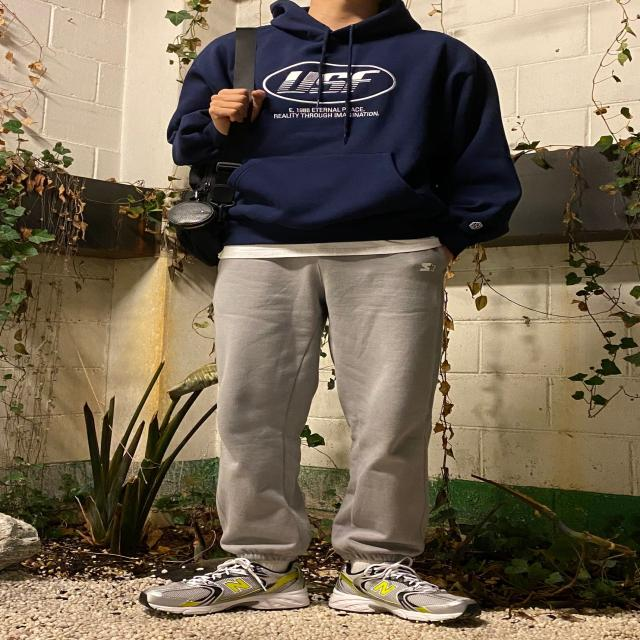hoodies: (166, 2, 524, 256)
trainingpants: (211, 244, 452, 564)
